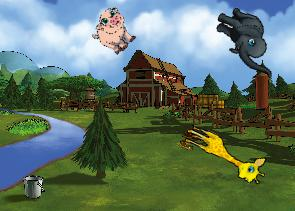elephant: (204, 3, 288, 78)
giraffe: (177, 122, 271, 188)
pig: (86, 3, 142, 59)
